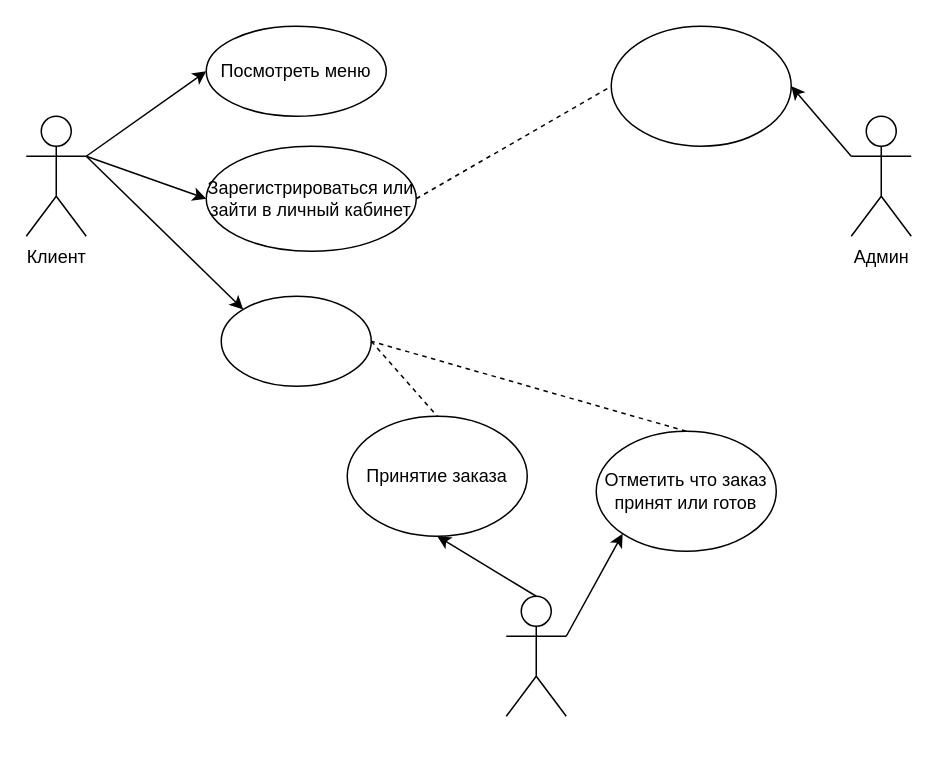
This 938x774 diagram has some shape labels left out. Here are the shapes that lost their labels. From the top down, the box of each, then its label:
(610, 25, 791, 146): Просмотр новых или нынешних клиентов
(220, 295, 371, 386): Сделать заказ
(505, 595, 566, 716): Менеджер
